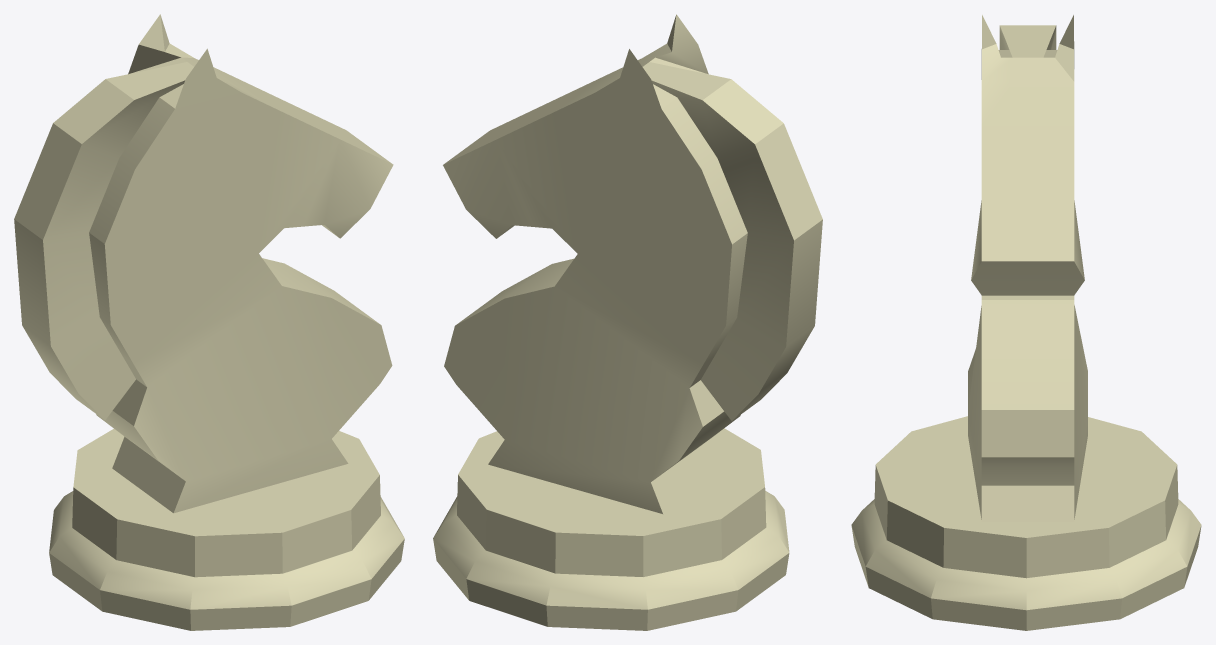
File: knight_01.glb
3 renders of one model, left to right at view 1: azimuth 30°, elevation 25°; view 2: azimuth 150°, elevation 25°; view 3: azimuth 270°, elevation 25°, orthographic. The views are drawn at different scales.
Visible parts, largest first — view 1: knight_01; view 2: knight_01; view 3: knight_01.
Part boxes in pixels (x1,y1,x2,y2): knight_01: (14,14,404,630); knight_01: (433,14,822,630); knight_01: (851,15,1201,630).
Size of the model in its own units: 0.5107 by 0.7432 by 0.4496.
